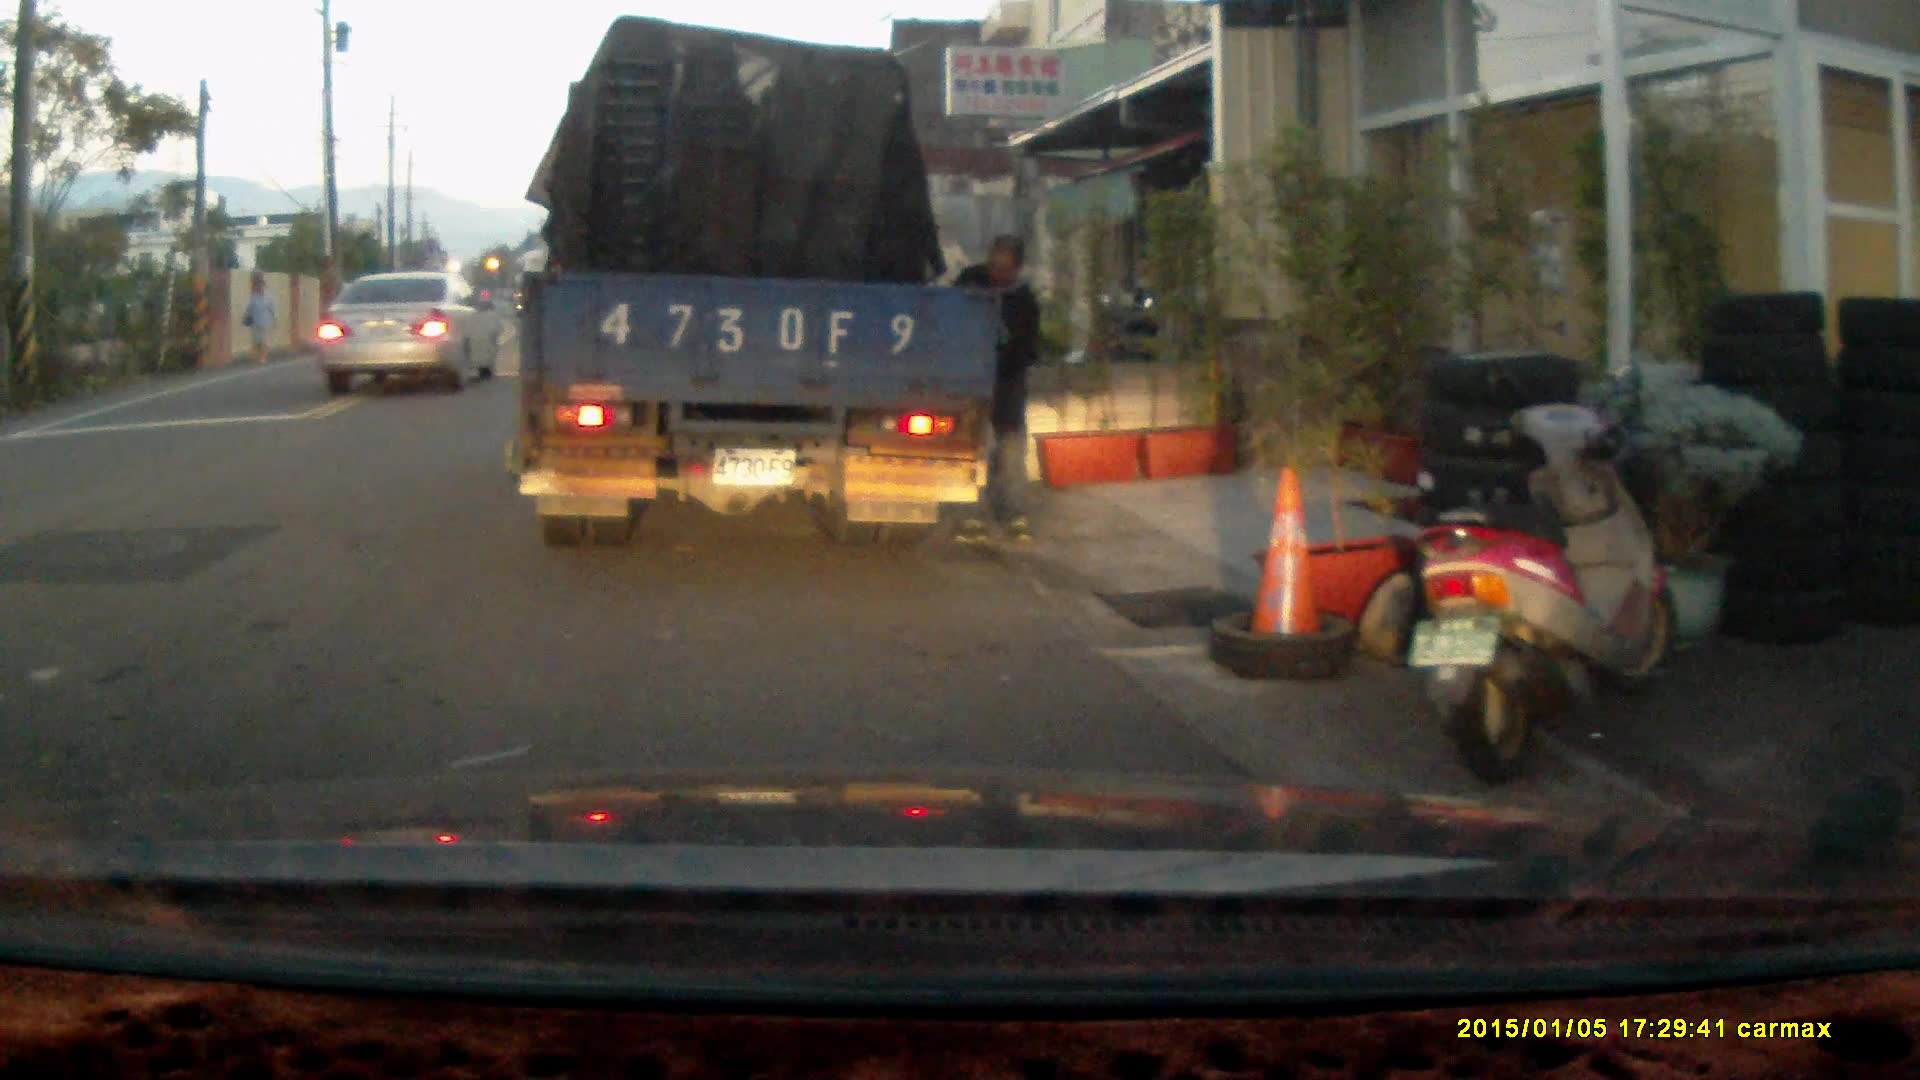pedestrian: (946, 228, 1040, 549), (235, 272, 275, 364)
vehicle: (517, 27, 994, 546), (317, 270, 506, 393)
